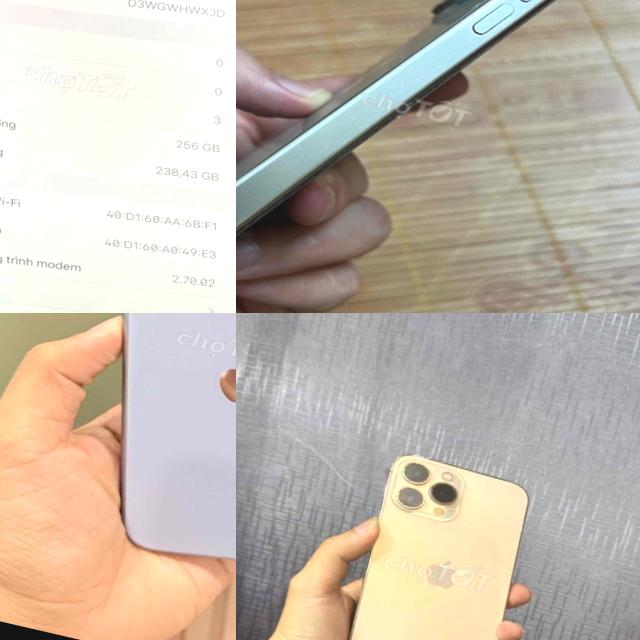gen_11: (120, 313, 236, 558)
gen_12_13: (329, 439, 547, 640)
gen_15: (236, 0, 640, 313), (0, 0, 236, 313)
